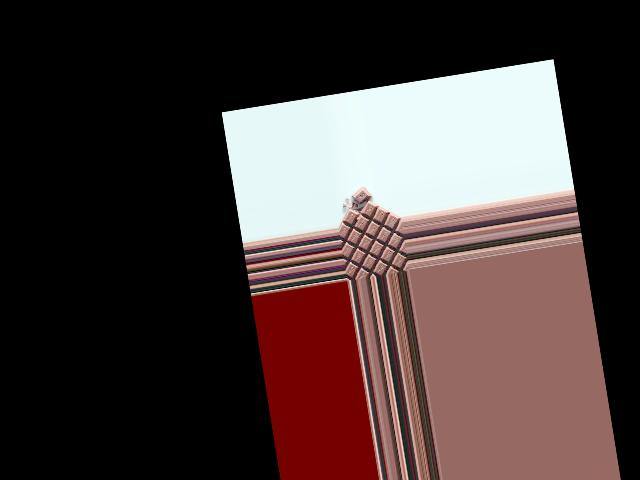chocolate: (335, 191, 407, 281)
